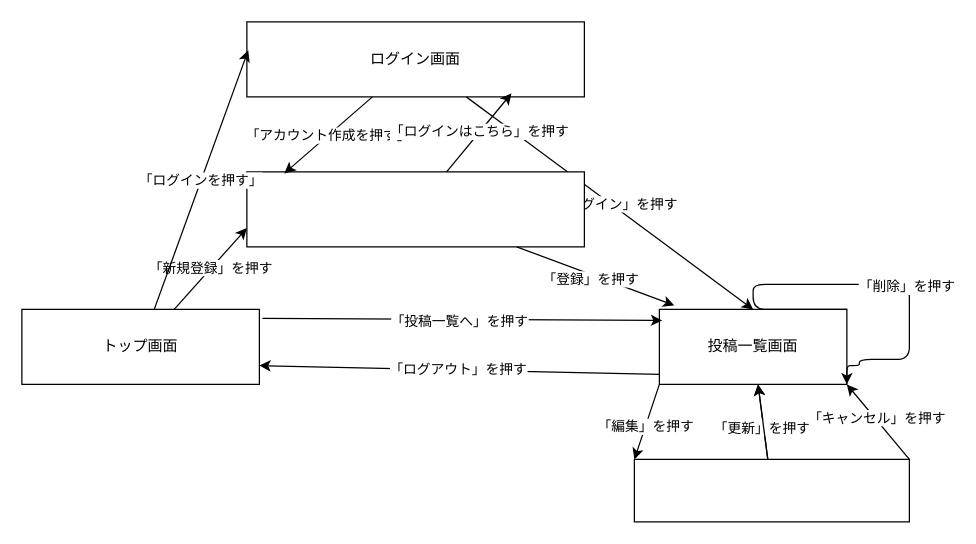
The diagram is 976 pixels wide and 544 high, and some of its shapes have lost their labels. The shapes that lost their labels are listed below. From the top down, each one's centre as x and y in pixels, then its label:
(x=415, y=209): ユーザー登録画面
(x=771, y=490): 投稿編集画面
